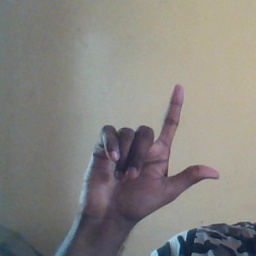L: (76, 81, 222, 220)
